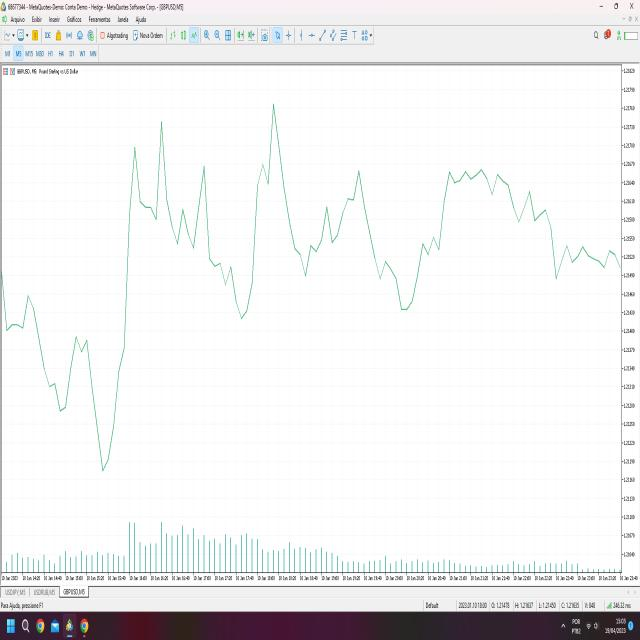fundo_duplo: (28, 288, 133, 495)
